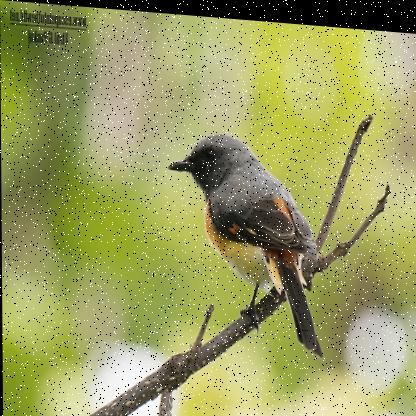Burung: (168, 125, 324, 352)
